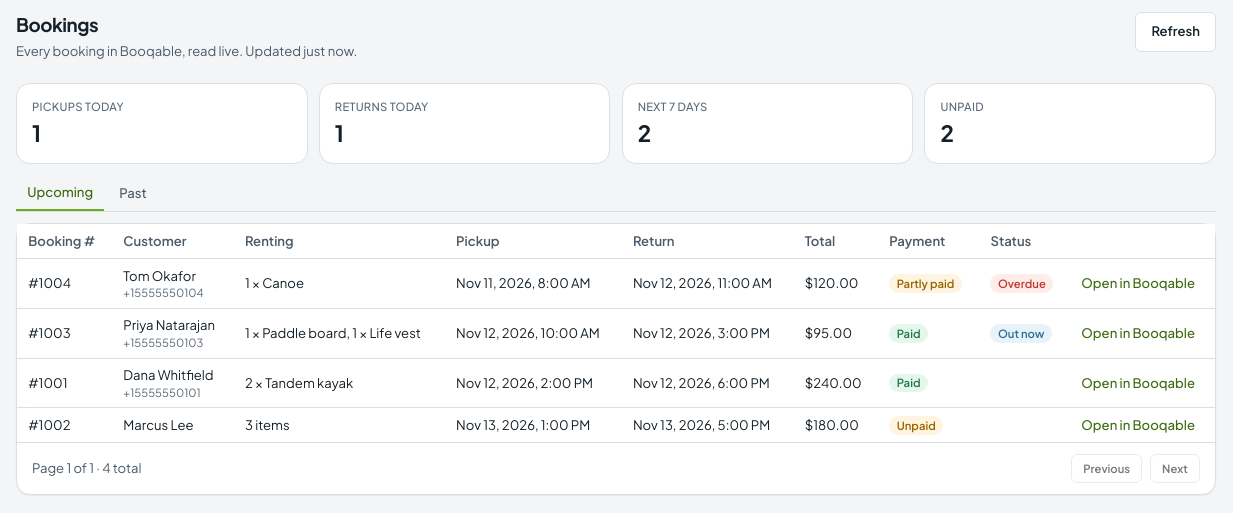
BookingsPage › shows the Past empty state without a description
expect the text "Dana Whitfield" is shown: met, box x1=123 y1=366 x2=214 y2=383
Click the tab "Past" at (133, 193), box x1=108 y1=175 x2=158 y2=211
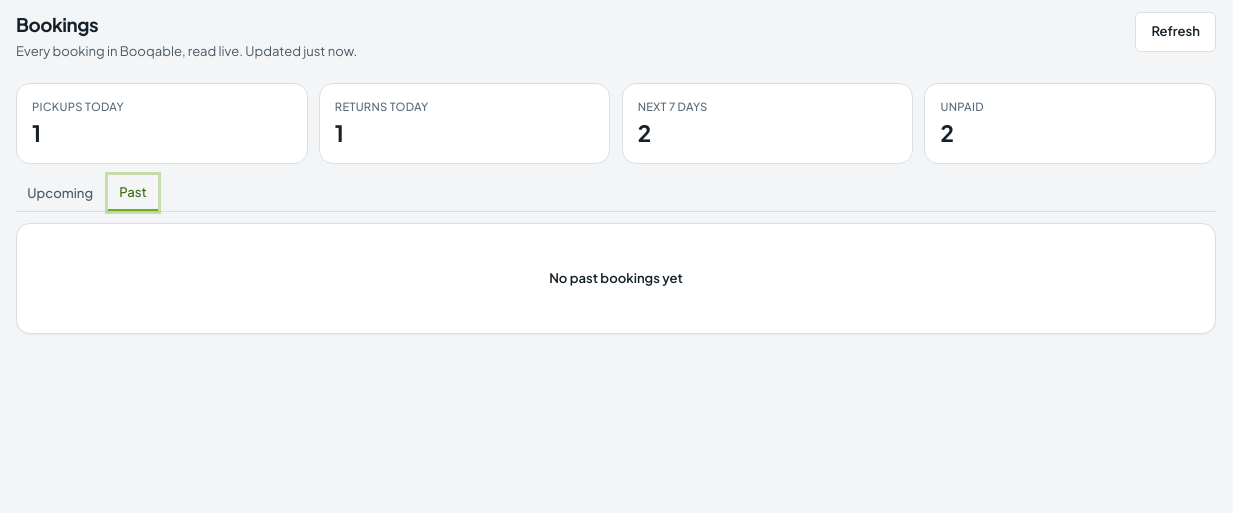
expect the text "No past bookings yet" is shown: met, box x1=549 y1=269 x2=683 y2=288
